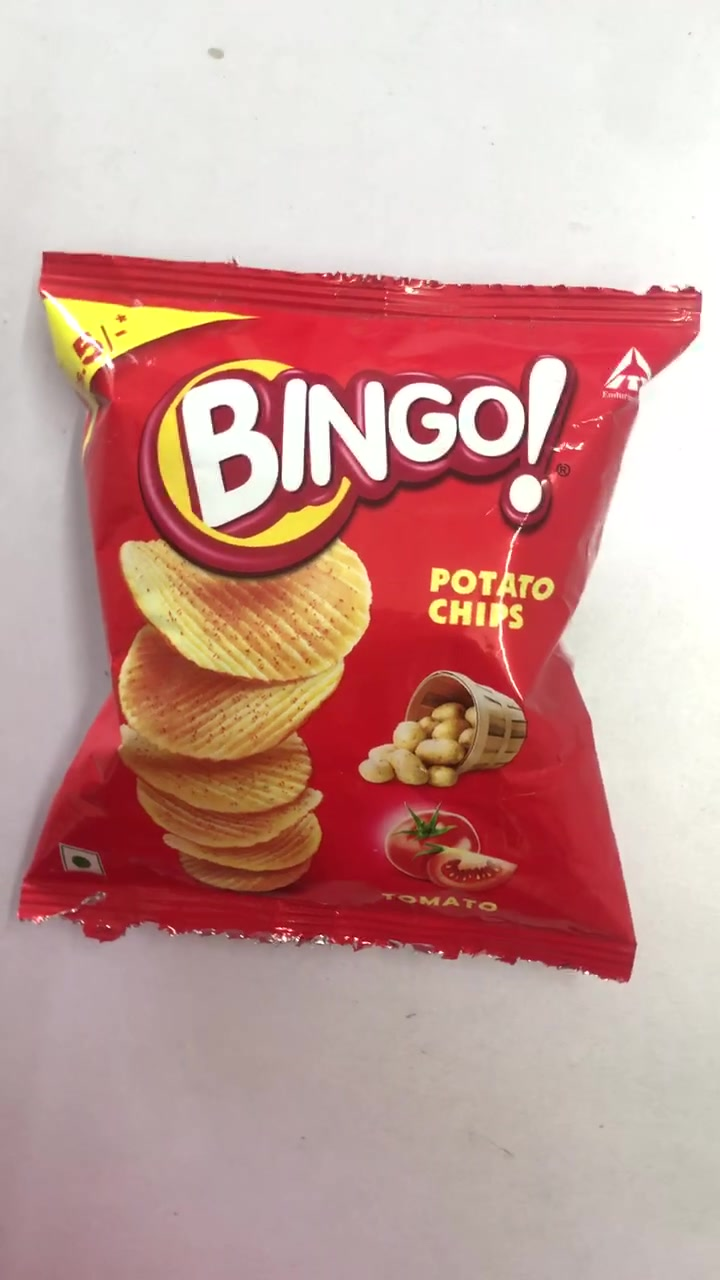Bingo: (37, 253, 702, 980)
